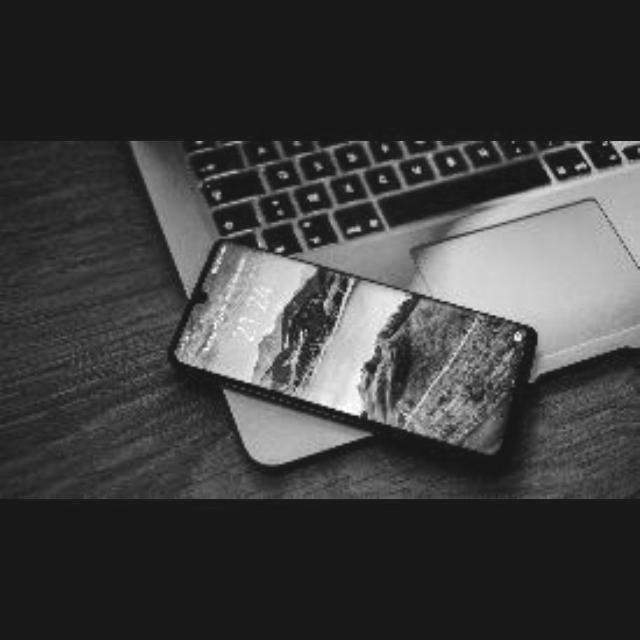fake: (150, 227, 561, 485)
